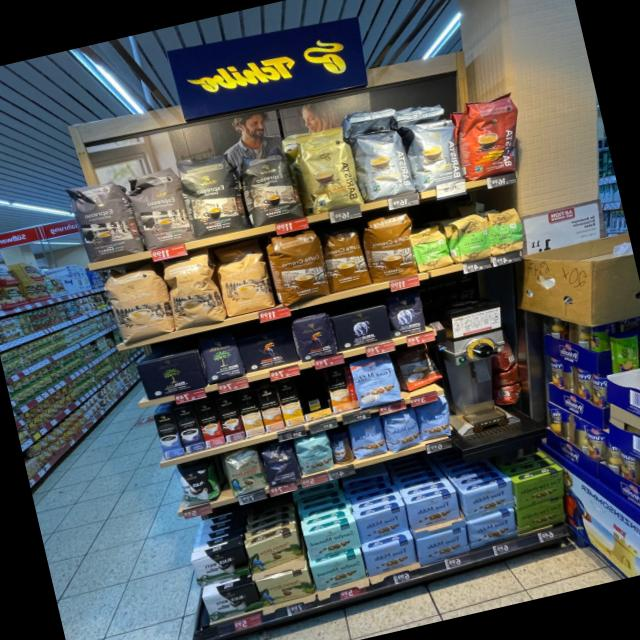AB Bohne: (384, 288, 429, 338)
AB Gemahlen: (329, 303, 394, 352)
Athiopien Bohne: (484, 205, 528, 258)
Athiopien Gemahlen: (446, 210, 494, 264), (410, 222, 453, 272)
BM Bohne: (196, 331, 245, 384)
BM Gemahlen: (135, 349, 206, 402)
BW Bohne: (174, 459, 216, 508)
BW Gemahlen: (185, 542, 251, 589), (200, 581, 263, 623)
Barista CB: (290, 122, 364, 215)
Barista CC: (349, 124, 416, 204), (404, 116, 468, 192)
Barista Kolumbien: (452, 90, 532, 181)
C Fino Bohne: (260, 442, 302, 488)
CC Mild: (100, 261, 176, 346), (160, 248, 225, 332), (212, 238, 276, 318)
CC Vollmundig 36 Pads: (264, 226, 332, 306), (358, 209, 422, 285), (318, 226, 372, 294)
Colombia BB Bohne: (220, 446, 268, 498)
Colombia BB Gemahlen: (245, 527, 303, 576), (253, 566, 316, 607)
Espresso Aromatisch: (68, 175, 142, 264), (126, 162, 193, 250)
Espresso Kraftig: (176, 150, 248, 240), (236, 147, 304, 228)
FM 36 Pads: (348, 352, 402, 409)
FM Bohne: (413, 398, 457, 442), (380, 406, 421, 453), (347, 414, 388, 461)
FM Gemahlen: (415, 524, 470, 566), (405, 489, 460, 531), (361, 536, 417, 577), (355, 503, 410, 544), (463, 478, 515, 521), (467, 507, 517, 550)
FM Instant: (327, 428, 355, 467)
Herzhatfe Mundig: (515, 468, 566, 509), (515, 495, 565, 535)
LG Bohne: (288, 312, 338, 362)
LG Gemahlen: (236, 324, 298, 374)
SM Bohne: (292, 432, 336, 478)
SM Gemahlen: (308, 550, 367, 593), (303, 519, 363, 561)
Simo CCMild bigpack: (274, 379, 306, 426)
Simo CCVollmundig: (323, 364, 359, 413)
Simo CCVollmundig bigpack: (256, 384, 285, 432)
Simo Decaff: (236, 389, 265, 437)
Simo Es Brazil: (193, 399, 225, 447)
Simo Es Caramel: (215, 395, 245, 442)
Simo Es Kraft: (173, 403, 205, 454)
Simo Es Vanilla: (152, 410, 183, 459)
